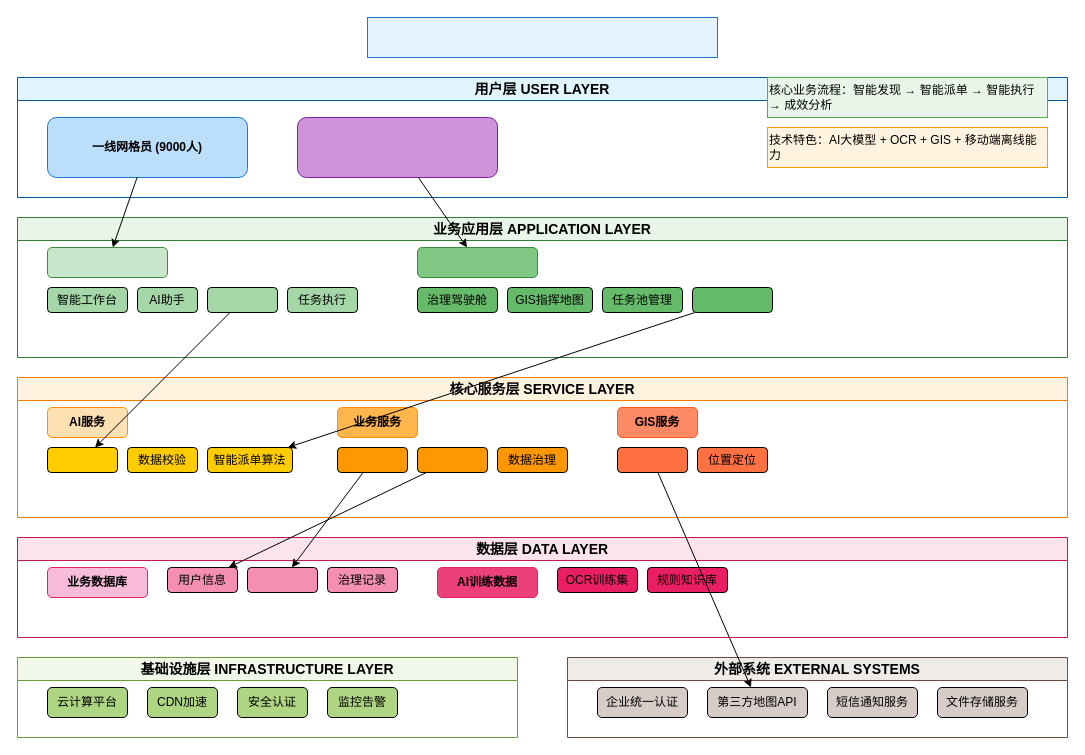
This 1085x755 diagram has some shape labels left out. The centre of each missing label's shape, as x and y in pixels:
"AI智能派单" goes at (732,299).
"OCR识别" goes at (82,459).
"任务数据" goes at (282,579).
"任务管理" goes at (372,459).
"各级管理员 (数百人)" goes at (397,147).
"地图服务" goes at (652,459).
"慧眼扫描" goes at (242,299).
"数据守护者AI - 业务架构图" goes at (542,37).
"用户管理" goes at (452,459).
"管理端 WEB" goes at (477,262).
"网格员端 APP" goes at (107,262).
